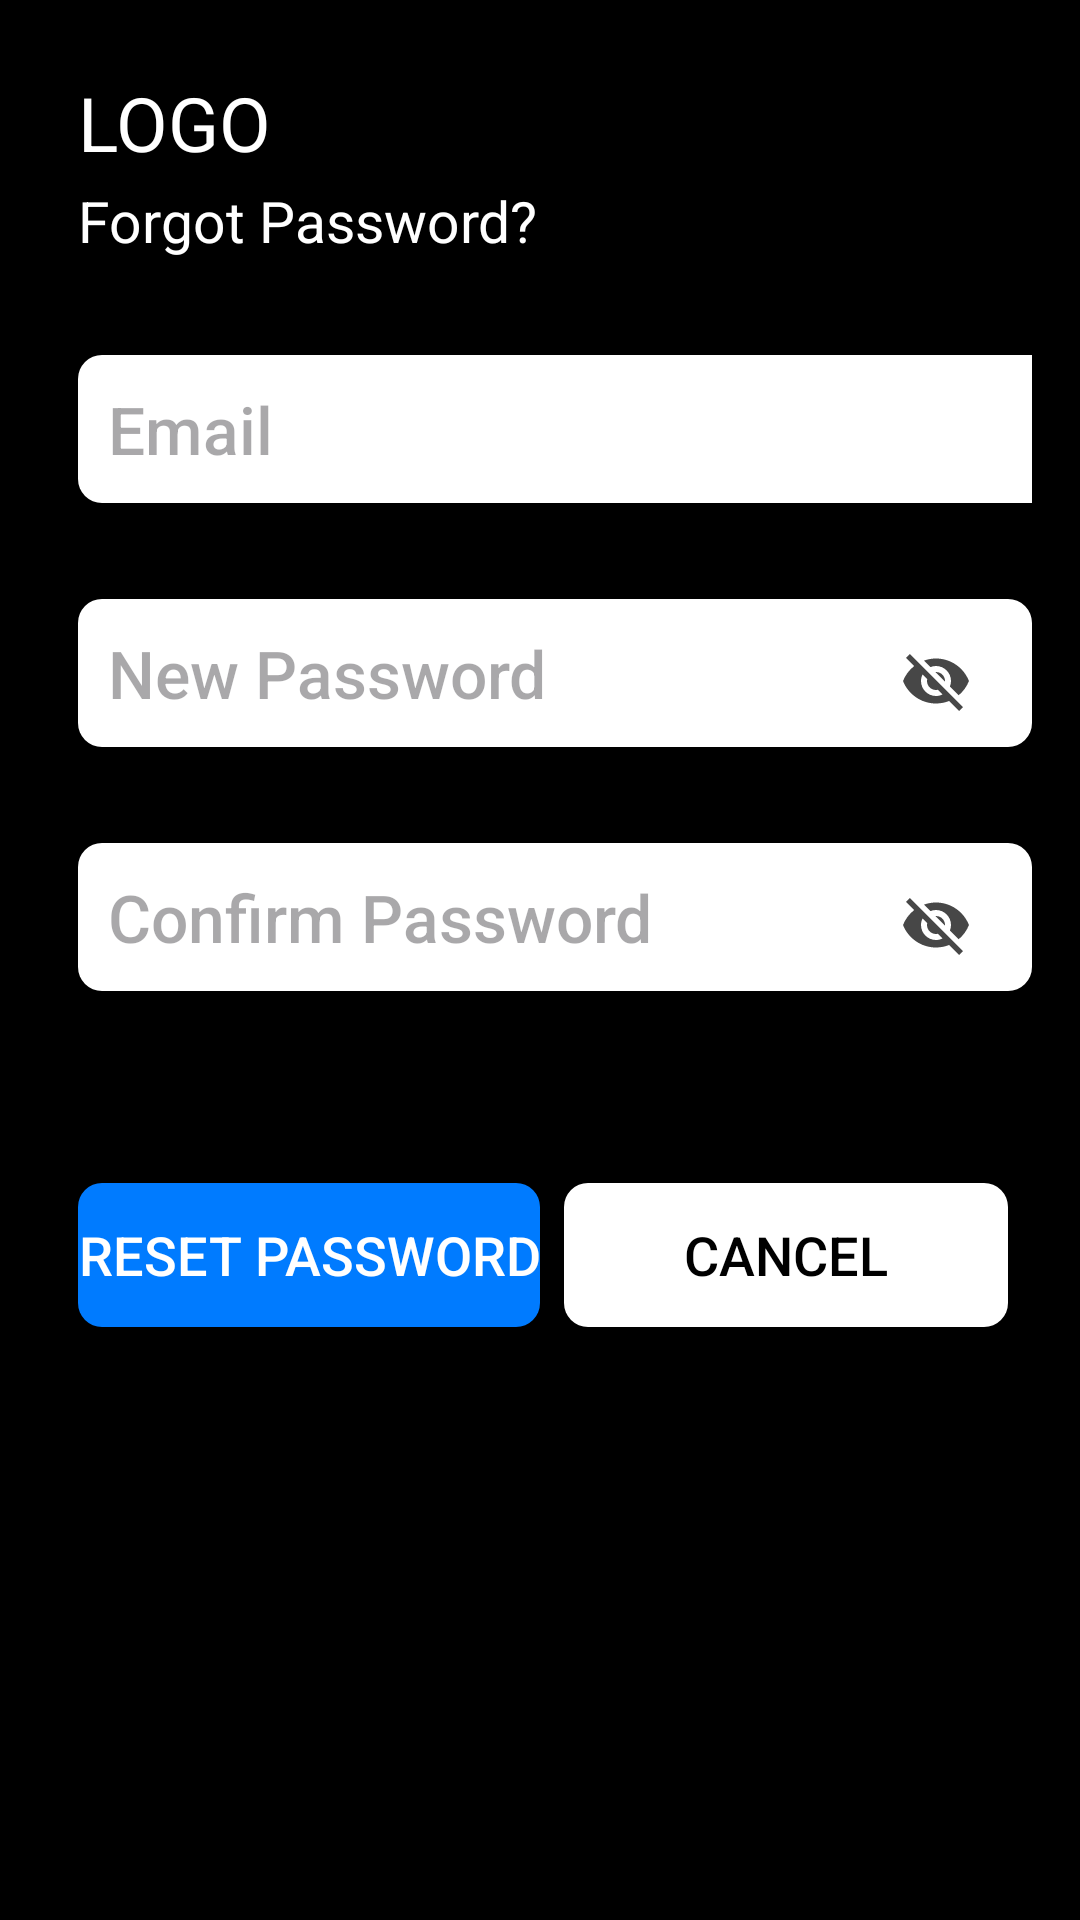

Named icons in this screenshot (1080×1920) and their centers, (x=x, y=y):
visibility off: (x=936, y=682), (x=936, y=926)
